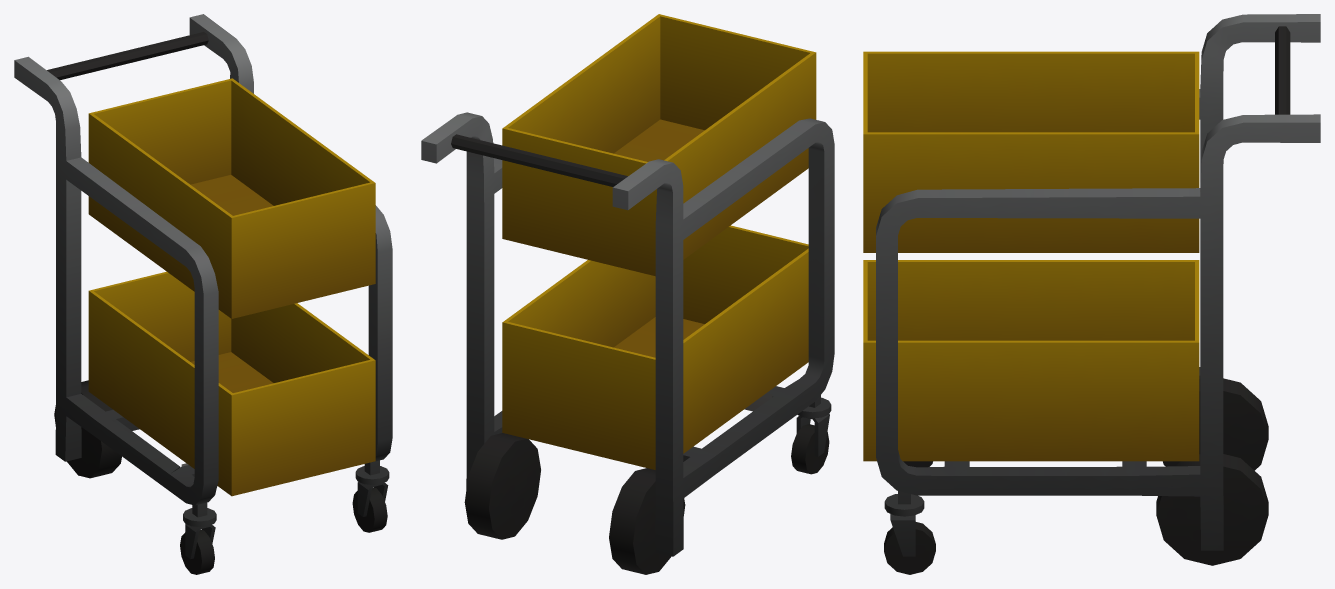
File: Mail_Trolley.fbx
3 renders of one model, left to right at view 1: azimuth 30°, elevation 25°; view 2: azimuth 150°, elevation 25°; view 3: azimuth 270°, elevation 25°, orthographic. The views are drawn at different scales.
Visible parts, largest first — view 1: Mail_Trolley; view 2: Mail_Trolley; view 3: Mail_Trolley.
Boxes of the visible parts, box(x1,y1,x2,y2) form: Mail_Trolley: box(14, 14, 392, 574); Mail_Trolley: box(421, 14, 834, 574); Mail_Trolley: box(863, 14, 1320, 574).
Bounding box in the file's own units: 51.26 × 93.63 × 85.58.
